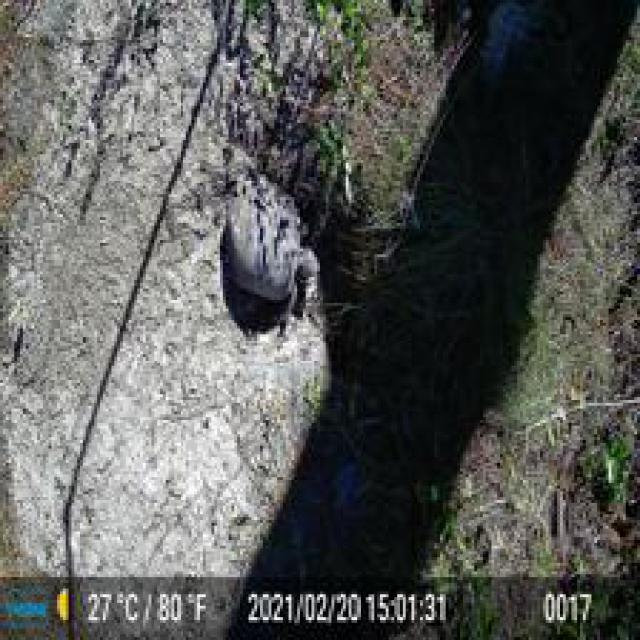tortoise: (223, 171, 320, 320)
